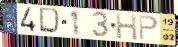1: (70, 10, 81, 36)
3: (91, 10, 110, 40)
4: (19, 6, 38, 33)
D: (39, 6, 63, 35)
H: (114, 12, 139, 42)
P: (138, 14, 160, 41)
